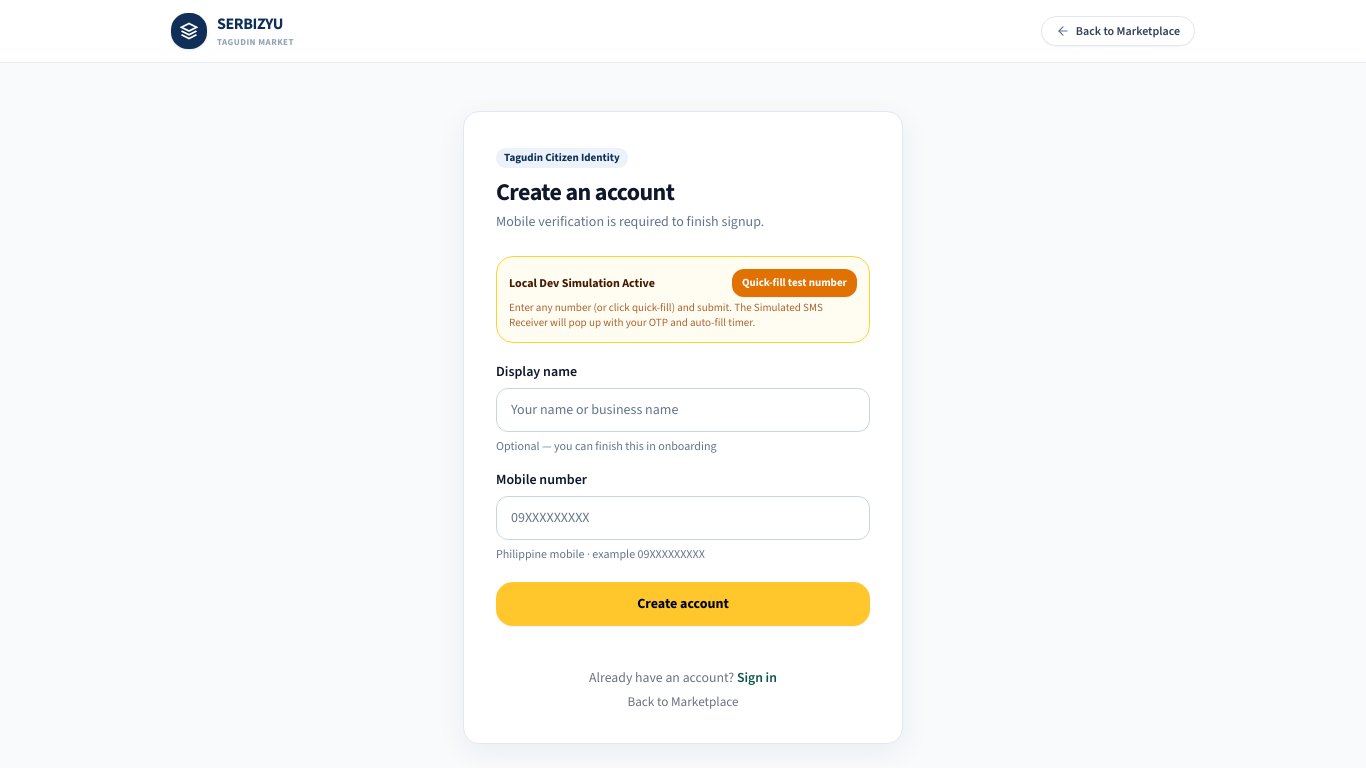
Test: registration page › shows the local helper and fills a valid test identity
The width and height of the screenshot is (1366, 768).
Expected: the message is shown, [496, 256, 870, 343]
Step 1. Click the button "Quick-fill test number" → click(794, 283), box [732, 269, 857, 297]
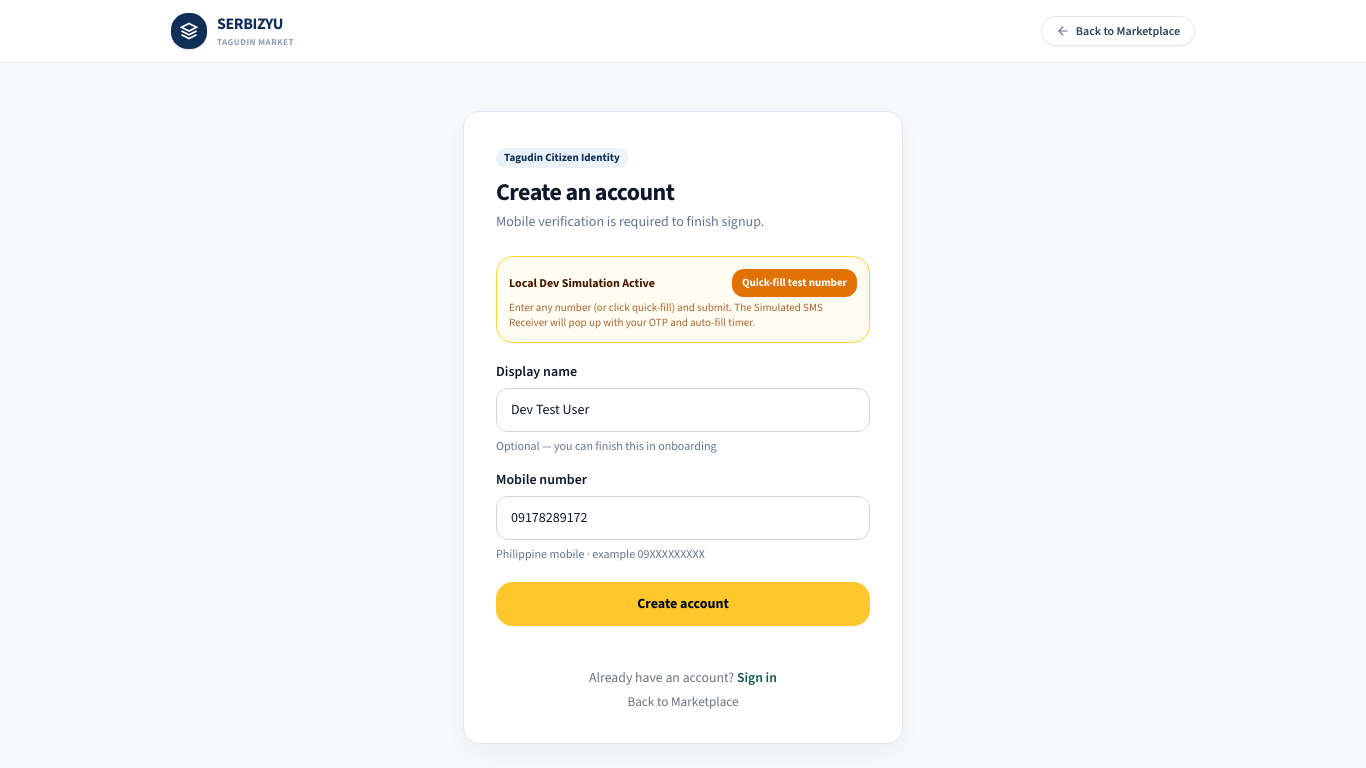
Result: the field showing "Dev Test User" is shown at [496, 388, 870, 432]
Result: the field showing "Mobile number" is shown at [496, 496, 870, 540]
